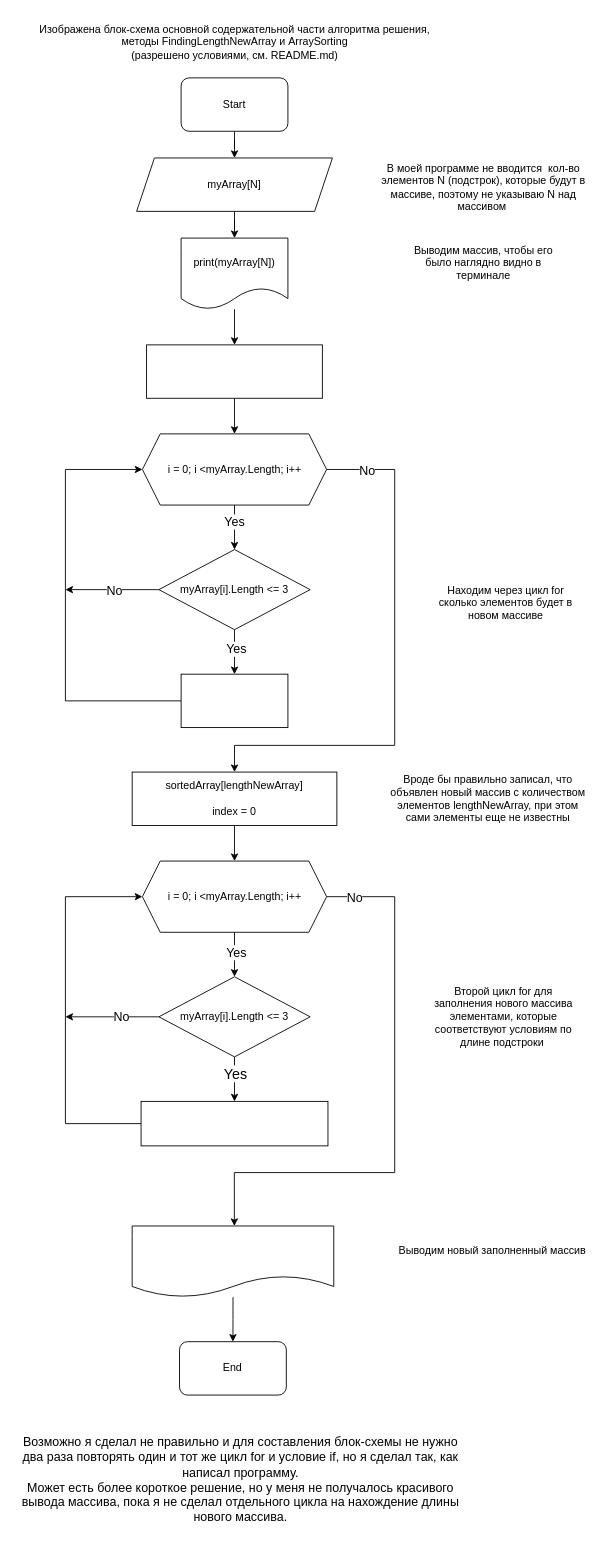
The diagram is 614 pixels wide and 1552 high, and some of its shapes have lost their labels. The centre of each missing label's shape, as x and y in pixels:
"lengthNewArray = 0" goes at point (234, 371).
"lengthNewArray++" goes at point (234, 700).
"print(sortedArray[lengthNewArray])" goes at point (232, 1261).
"sortedArray[index] = myArray[i] index++" goes at point (234, 1123).
